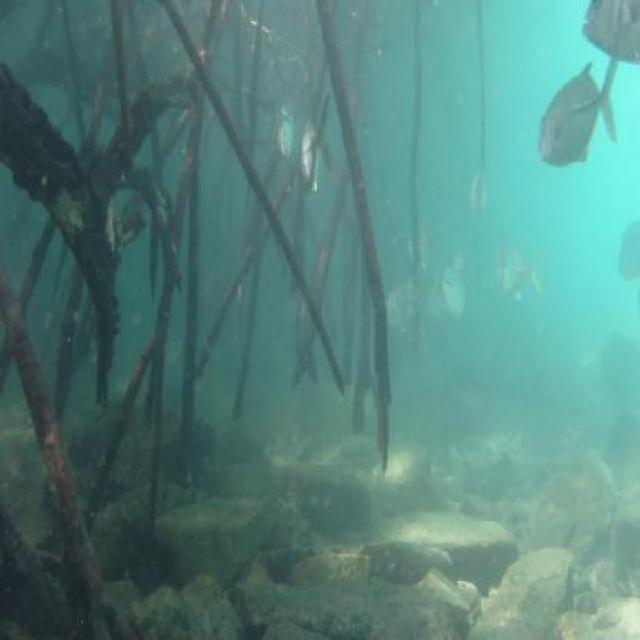Caranx_sexfasciatus_juvenile: (537, 54, 618, 169), (299, 96, 339, 204), (580, 1, 640, 70), (382, 274, 424, 341), (493, 228, 524, 317), (460, 160, 498, 226), (431, 256, 466, 326), (510, 248, 547, 308), (612, 216, 640, 286), (274, 96, 295, 161), (446, 249, 472, 297)
